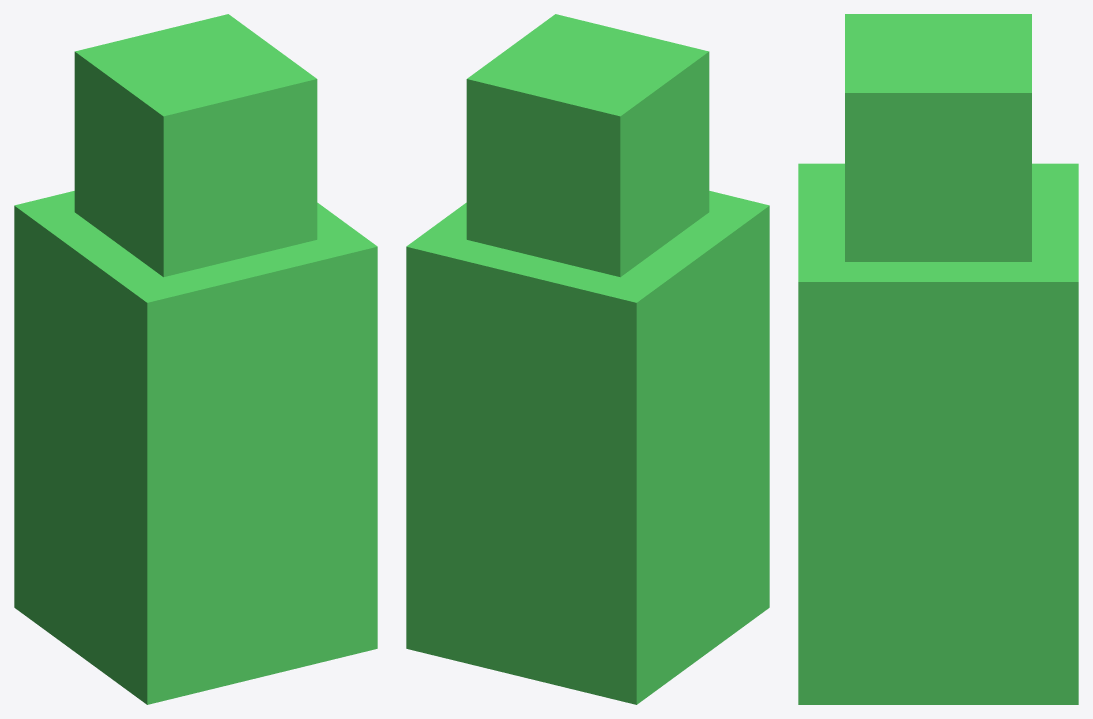
Rendered from player.glb.
3 renders of one model, left to right at view 1: azimuth 30°, elevation 25°; view 2: azimuth 150°, elevation 25°; view 3: azimuth 270°, elevation 25°, orthographic. The views are drawn at different scales.
Parts seen in each view (by area): view 1: Cube, Cube.001; view 2: Cube, Cube.001; view 3: Cube, Cube.001.
Part boxes in pixels (x1=…): Cube: x1=14, y1=191, x2=377, y2=704; Cube.001: x1=74, y1=14, x2=317, y2=277; Cube: x1=406, y1=191, x2=769, y2=704; Cube.001: x1=466, y1=14, x2=709, y2=277; Cube: x1=798, y1=163, x2=1078, y2=704; Cube.001: x1=845, y1=14, x2=1031, y2=261.
Size of the model in its own units: 3 by 7 by 3.
